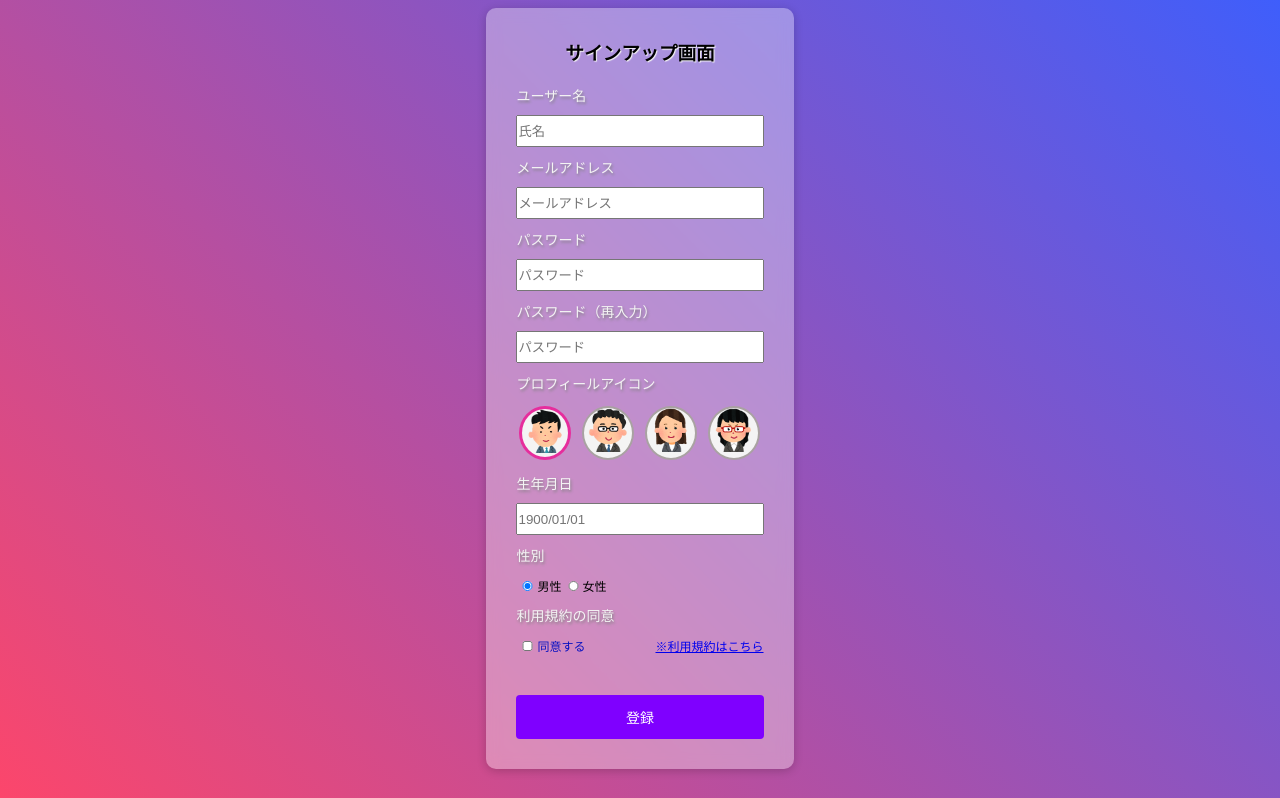
Test: バリデートチェックのテスト › バリデート桁数チェック（パスワード）
In the password field labelled "パスワード": (640, 275) 516,259 -> 764,291, type "12345"
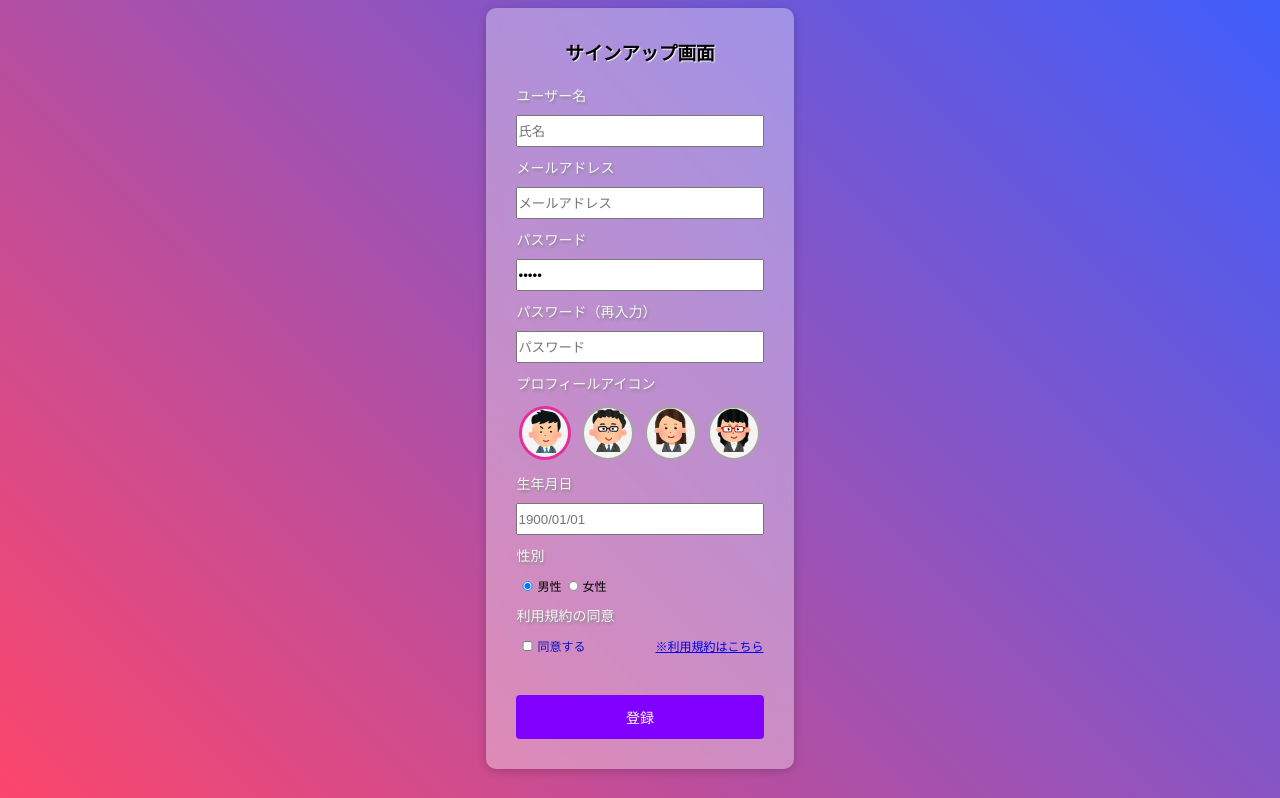
Click the button "登録": (640, 717) 516,695 -> 764,739
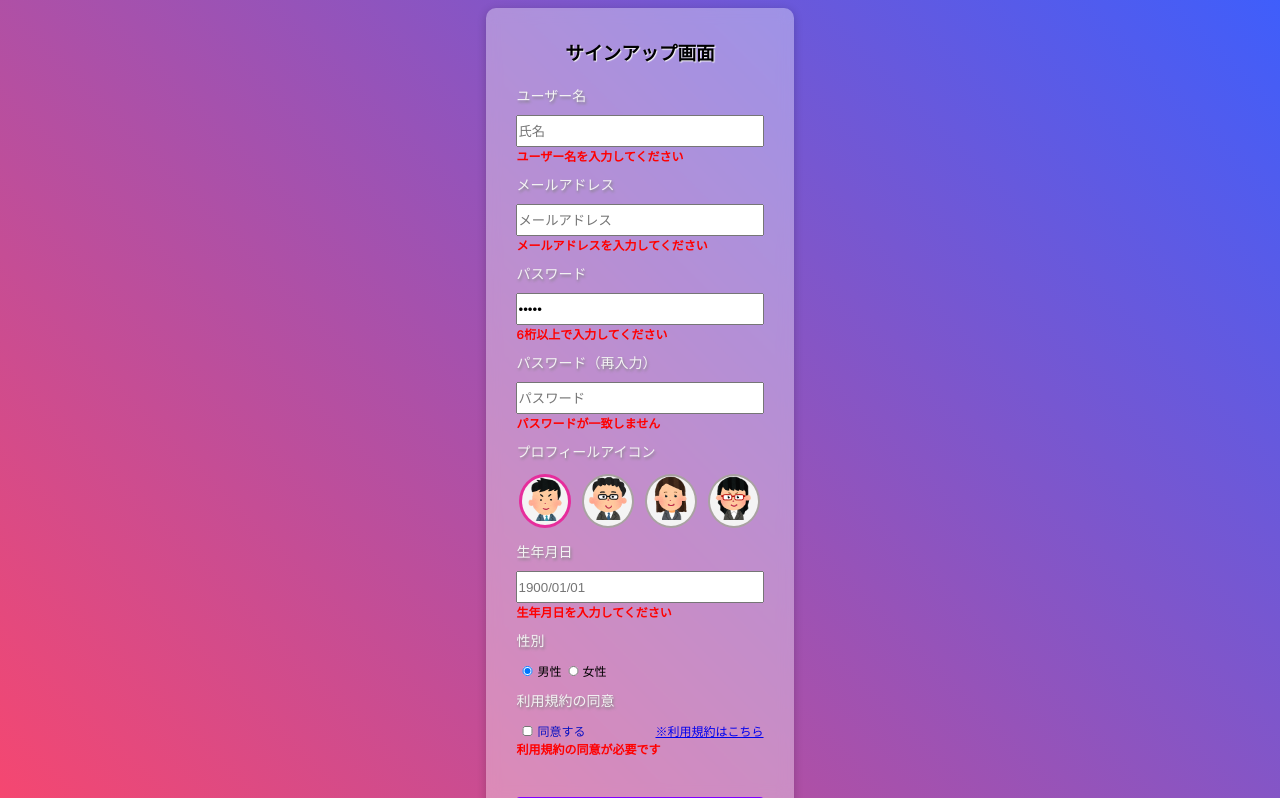
Result: the text "6桁以上で入力してください" is shown at 516,327 -> 668,342
